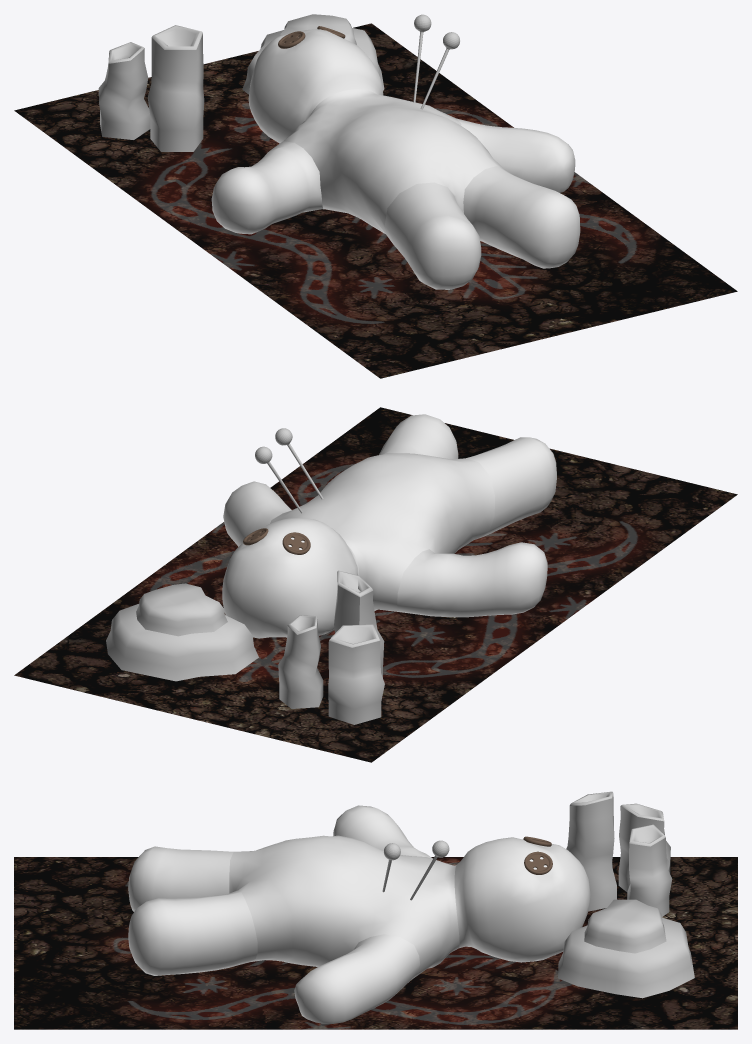
The model's file is VoodooDollScene.dae.
The picture shows the model from 3 angles, top to bottom: view 1: azimuth 30°, elevation 25°; view 2: azimuth 150°, elevation 25°; view 3: azimuth 270°, elevation 25°; orthographic projection.
Parts seen in each view (by area): view 1: BG, voodoo_torso, voodoo_head, voodoo_leftleg, voodoo_Rleg, voodoo_rightarm, Candle1, voodoo_leftarm, Candle2, Rock1, Rock2; view 2: BG, voodoo_torso, voodoo_head, voodoo_rightarm, Rock2, voodoo_Rleg, Candle2, Rock1, Candle3, voodoo_leftarm, voodoo_leftleg, Candle1; view 3: BG, voodoo_torso, voodoo_head, voodoo_leftleg, voodoo_leftarm, Rock2, voodoo_Rleg, Candle1, Rock1, Candle3, voodoo_rightarm, Candle2 (+2 smaller).
Part boxes in pixels (x1,y1,x2,y2): BG: [14, 23, 737, 378]; voodoo_torso: [284, 89, 504, 239]; voodoo_head: [248, 29, 383, 143]; voodoo_leftleg: [463, 166, 580, 268]; voodoo_Rleg: [384, 182, 481, 289]; voodoo_rightarm: [211, 141, 322, 234]; Candle1: [147, 25, 204, 151]; voodoo_leftarm: [456, 118, 575, 192]; Candle2: [98, 42, 150, 139]; Rock1: [279, 14, 356, 44]; Rock2: [242, 28, 384, 94]; BG: [14, 407, 737, 762]; voodoo_torso: [270, 453, 495, 612]; voodoo_head: [222, 517, 359, 638]; voodoo_rightarm: [397, 542, 547, 617]; Rock2: [106, 604, 258, 681]; voodoo_Rleg: [466, 437, 556, 536]; Candle2: [328, 624, 384, 724]; Rock1: [136, 583, 227, 636]; Candle3: [278, 615, 323, 708]; voodoo_leftarm: [223, 481, 291, 546]; voodoo_leftleg: [379, 414, 458, 459]; Candle1: [334, 570, 384, 677]; BG: [14, 857, 737, 1029]; voodoo_torso: [229, 835, 459, 979]; voodoo_head: [454, 837, 590, 962]; voodoo_leftleg: [128, 890, 257, 975]; voodoo_leftarm: [294, 934, 419, 1023]; Rock2: [558, 917, 694, 998]; voodoo_Rleg: [128, 846, 233, 911]; Candle1: [566, 791, 616, 911]; Rock1: [584, 899, 666, 953]; Candle3: [627, 824, 672, 916]; voodoo_rightarm: [333, 805, 432, 858]; Candle2: [618, 803, 670, 891].
Size of the model in its own units: 640 by 265 by 1136.
